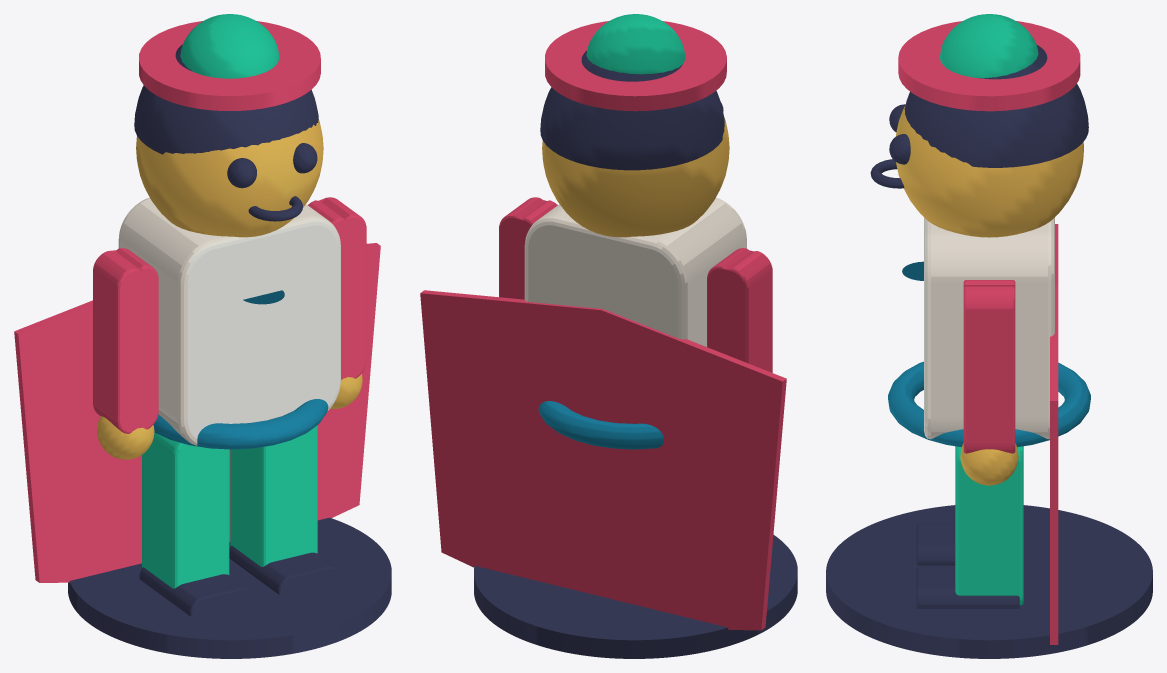
Rendered from 1081_古文观止_王勃.glb.
3 views of the same model, side by side, from view 1: azimuth 30°, elevation 25°; view 2: azimuth 150°, elevation 25°; view 3: azimuth 270°, elevation 25° (orthographic).
Visible parts, largest first — view 1: card_1081; view 2: card_1081; view 3: card_1081.
Part boxes in pixels (x1,y1,x2,y2): card_1081: (14,14,391,658); card_1081: (420,14,797,658); card_1081: (826,14,1152,658).
Bounding box in the file's own units: 0.6502 × 1 × 0.5073.
